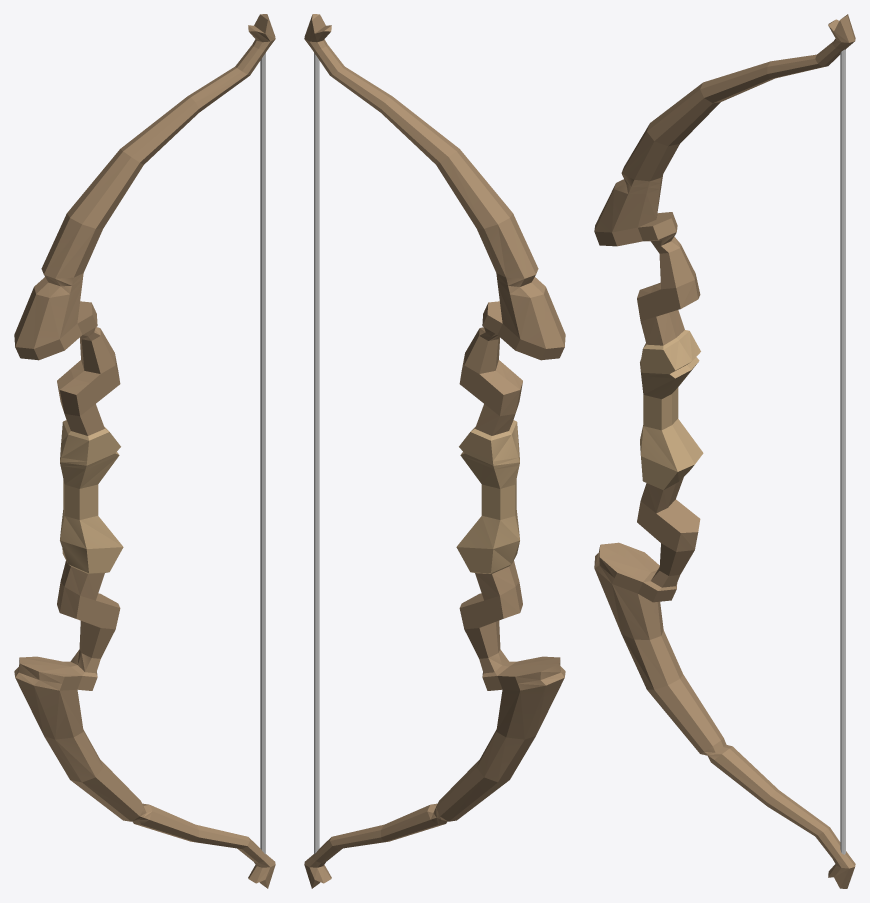
File: arco_corto.glb
The picture shows the model from 3 angles, left to right: view 1: azimuth 30°, elevation 25°; view 2: azimuth 150°, elevation 25°; view 3: azimuth 330°, elevation 25°; orthographic projection.
Parts seen in each view (by area): view 1: arco_corto; view 2: arco_corto; view 3: arco_corto.
Boxes of the visible parts, <box> form: arco_corto: <box>14,14,275,888</box>; arco_corto: <box>304,14,565,888</box>; arco_corto: <box>594,14,855,888</box>.
Bounding box in the file's own units: 1.32 × 4.24 × 0.2434.
